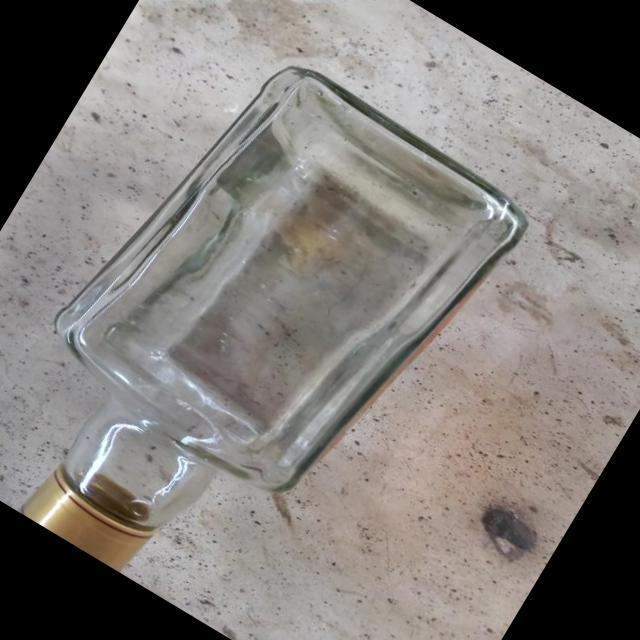Glass: (19, 66, 530, 574)
